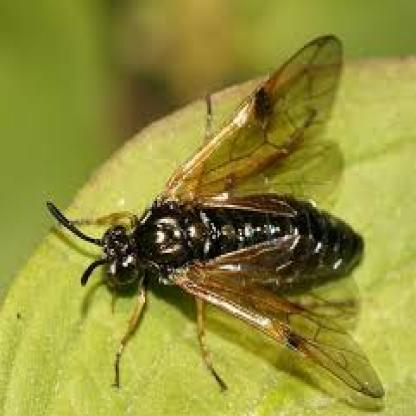sawfly: (46, 34, 387, 408)
